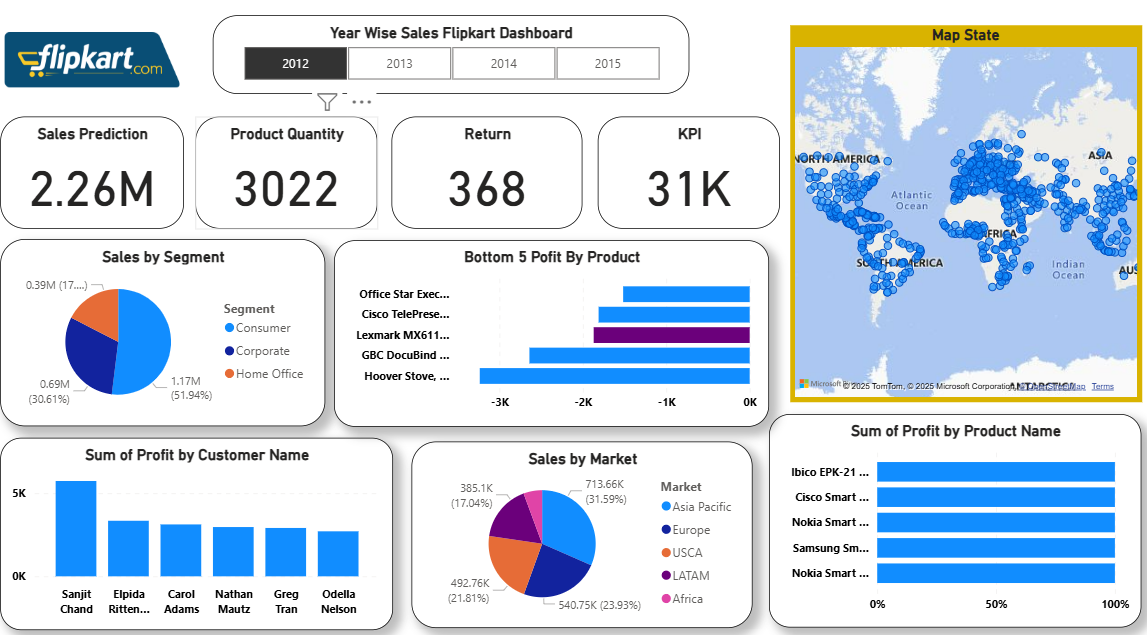

What the dashboard file says about the page in this screenshot:
{"tool":"powerbi","page":{"name":"Page 1","canvas":[1280,720],"ordinal":0},"visuals":[{"type":"slicer","title":"Year Wise Sales Flipkart Dashboard","fields":{"Values":["Orders.Year"]},"box":[244.3,57.6,525.6,75.5],"z":0},{"type":"card","title":"Sales Prediction","fields":{"Values":["Orders.Sales"]},"box":[12.3,140,201.7,123.5],"z":1000},{"type":"pieChart","title":"Sales by Segment","fields":{"Y":["Orders.Sales"],"Category":["Orders.Segment"]},"box":[12.3,274.4,356.8,205.8],"z":2000},{"type":"pieChart","title":" Sales by Market","fields":{"Y":["Orders.Sales"],"Category":["Orders.Market"]},"box":[463.8,496.7,374.6,204.5],"z":3000},{"type":"card","title":"Product Quantity","fields":{"Values":["Orders.Product Name"]},"box":[226.4,140,200.3,123.5],"z":4000},{"type":"columnChart","fields":{"Category":["Orders.Customer Name"],"Y":["Orders.Profit"]},"box":[12.3,492.6,430.9,211.3],"z":5000},{"type":"hundredPercentStackedBarChart","fields":{"Category":["Orders.Product Name"],"Y":["Orders.Profit"]},"box":[856.3,466.6,408.9,234.6],"z":6000},{"type":"barChart","title":"Bottom 5 Pofit By Product","fields":{"Category":["Orders.Product Name"],"Y":["Orders.Profit"]},"box":[378.7,275.8,477.5,204.5],"z":7000},{"type":"map","title":"Map State","fields":{"Category":["Orders.State"]},"box":[878.2,57.6,387,395.2],"z":8000},{"type":"image","box":[31.6,17.8,194.9,156.4],"z":9000},{"type":"card","title":"Return","fields":{"Values":["Orders.Ship Date"]},"box":[441.9,140,209.9,123.5],"z":10000},{"type":"card","title":"KPI","fields":{"Values":["Orders.Quantity"]},"box":[668.3,140,200.3,123.5],"z":11000}]}

Visuals, with their boxes in screenshot pixels (x1, y1, x2, y2), scaled from the page's 1280x720 canvas onto the 1147x635 screenshot:
"Year Wise Sales Flipkart Dashboard" slicer: (219, 51, 690, 117)
"Sales Prediction" card: (11, 123, 192, 232)
"Sales by Segment" pieChart: (11, 242, 331, 424)
" Sales by Market" pieChart: (416, 438, 751, 618)
"Product Quantity" card: (203, 123, 382, 232)
columnChart - Orders.Customer Name x Orders.Profit: (11, 434, 397, 621)
hundredPercentStackedBarChart - Orders.Product Name x Orders.Profit: (767, 412, 1134, 618)
"Bottom 5 Pofit By Product" barChart: (339, 243, 767, 424)
"Map State" map: (787, 51, 1134, 399)
image: (28, 16, 203, 154)
"Return" card: (396, 123, 584, 232)
"KPI" card: (599, 123, 778, 232)
